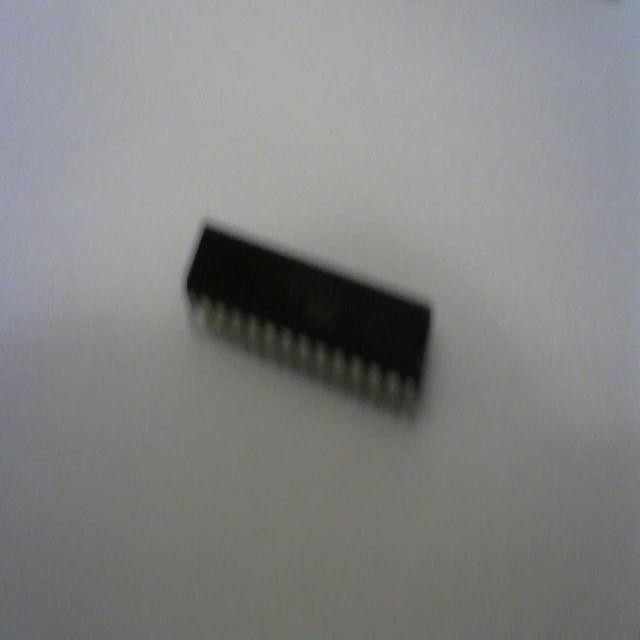atmega: (182, 215, 434, 424)
